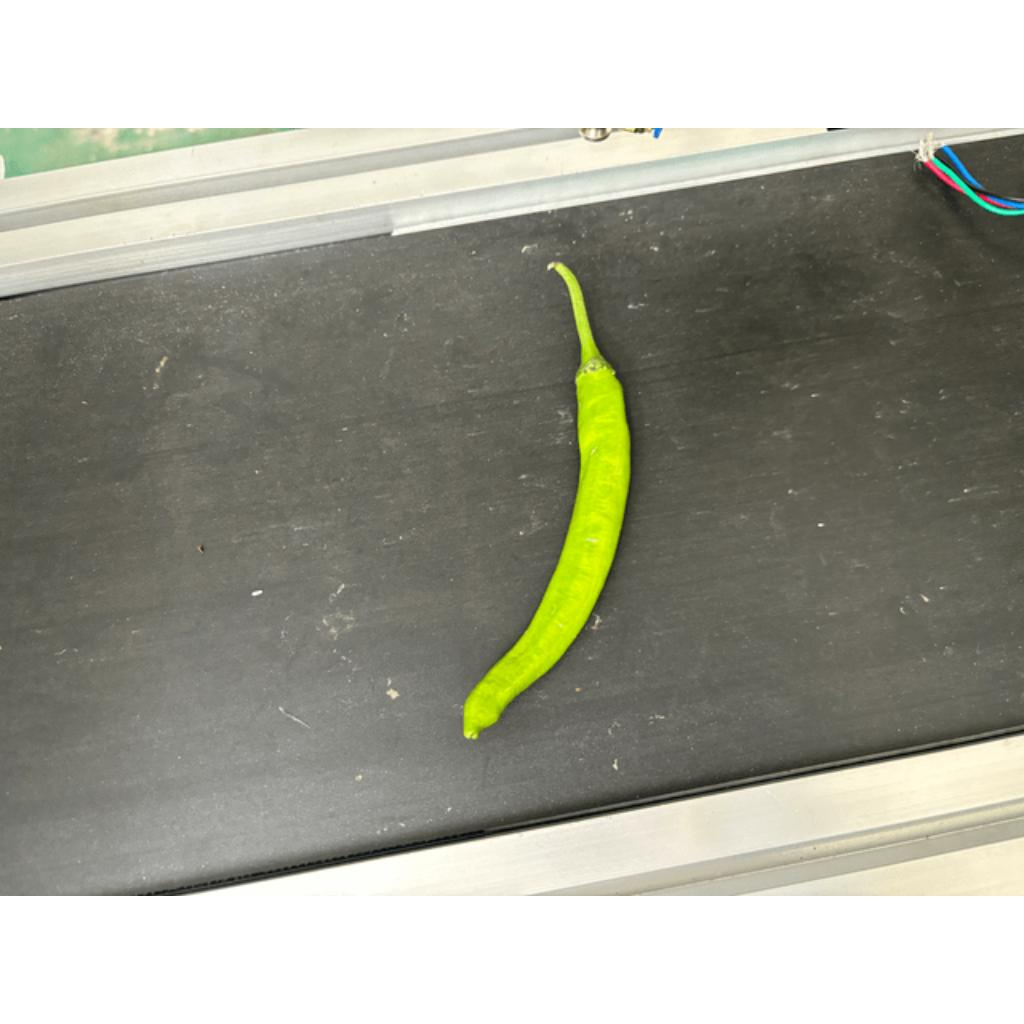chili: (459, 354, 637, 743)
